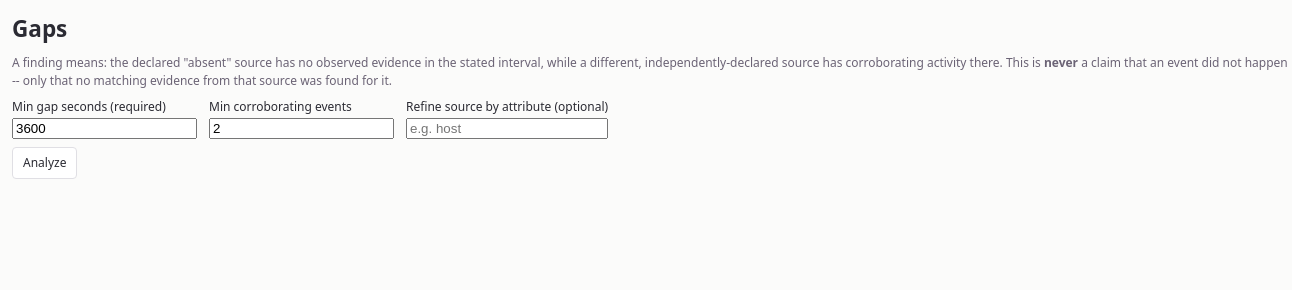
it: GapsPanel › tracking shows the new/already_tracked summary
Click the button "Analyze".
click(45, 163)  # box x1=12 y1=147 x2=78 y2=179
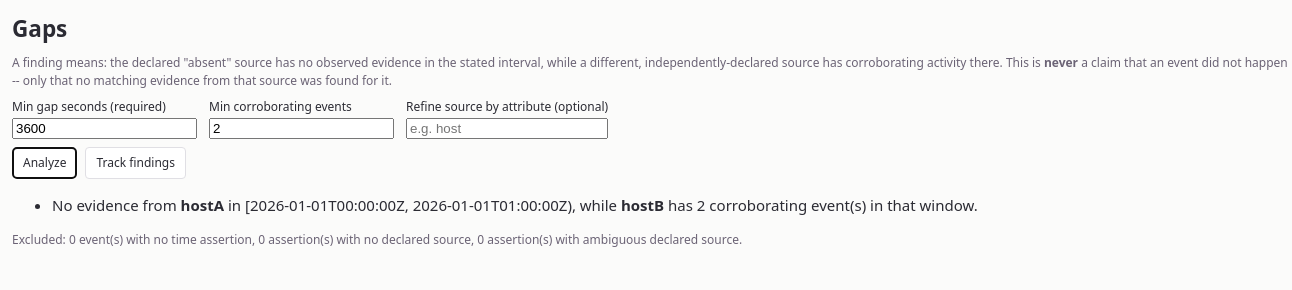
Expected: the element with test id "gaps-result" is shown, x1=12 y1=195 x2=978 y2=248
Click the button "Track findings".
click(136, 163)  # box x1=86 y1=147 x2=186 y2=179
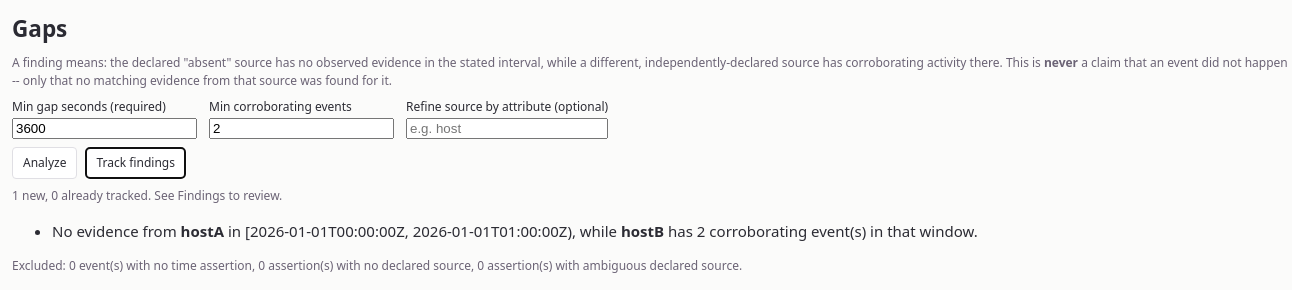
Expected: the text "1 new, 0 already tracked. See Findings to review." is shown, x1=12 y1=187 x2=282 y2=204
